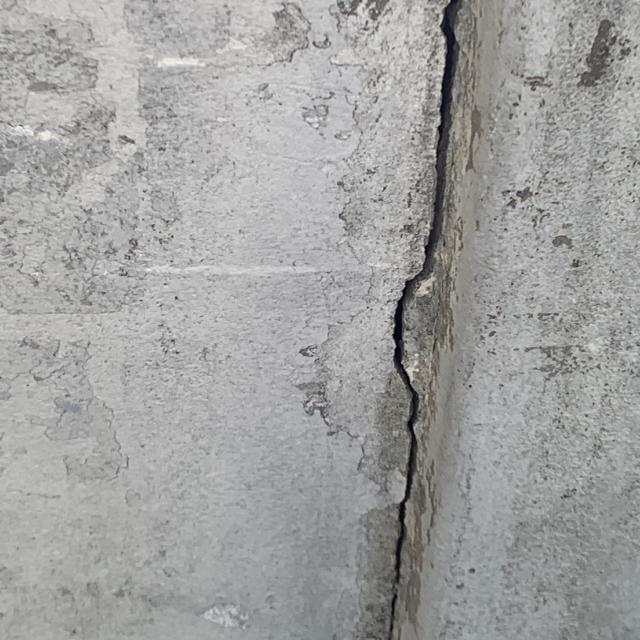SurfaceCrack: (336, 0, 515, 640)
